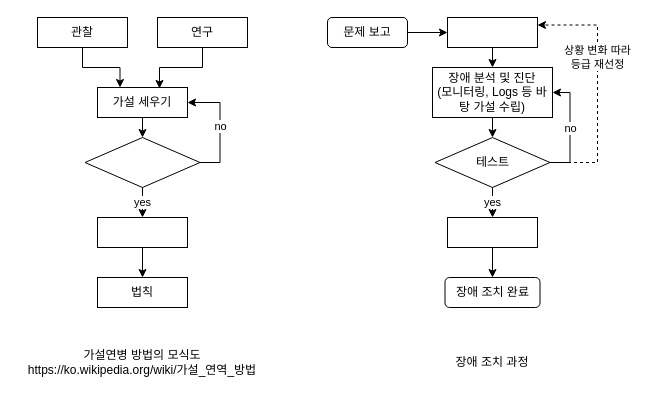
The diagram is 648 pixels wide and 405 high, and some of its shapes have lost their labels. The centre of each missing label's shape, as x and y in pixels:
"가설의 시험" goes at [142,162].
"가설의 입증" goes at [142,232].
"장애 등급 선정" goes at [492,32].
"조치" goes at [492,232].
